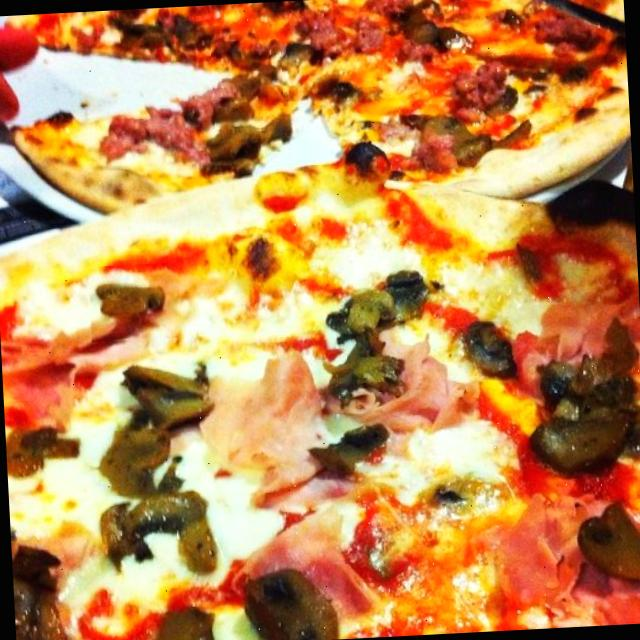mushrooms: (86, 358, 227, 497), (312, 268, 444, 395), (518, 352, 640, 482), (559, 476, 640, 600), (246, 546, 351, 640), (4, 398, 90, 497), (196, 111, 295, 194), (88, 262, 182, 344), (419, 104, 542, 162), (210, 39, 285, 133), (98, 6, 214, 56), (462, 312, 524, 399), (387, 0, 472, 60), (141, 588, 218, 640)
pizza: (0, 143, 640, 640), (13, 0, 631, 212)
